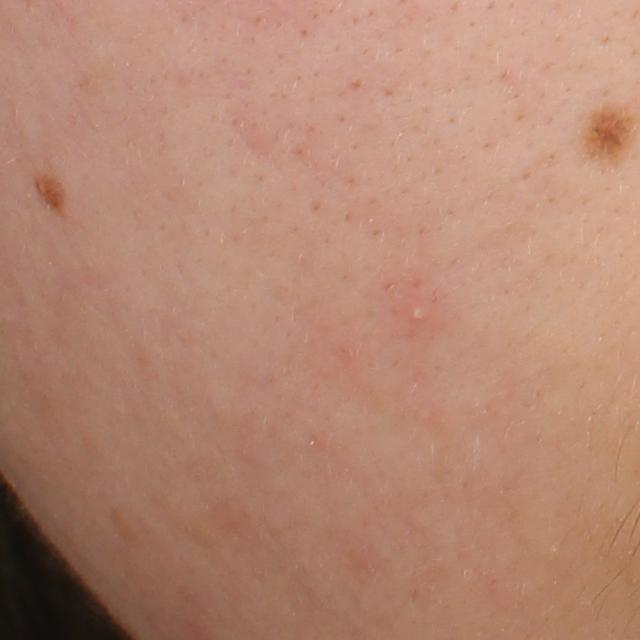nevus: (582, 102, 638, 170), (33, 172, 68, 217)
pustule: (396, 292, 440, 336)
